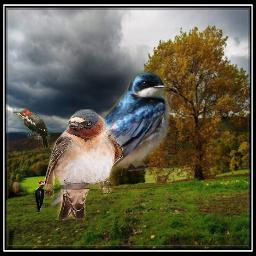Swallow: (50, 68, 171, 210), (44, 109, 123, 220)
Woodpecker: (13, 108, 52, 150), (33, 180, 53, 212)
